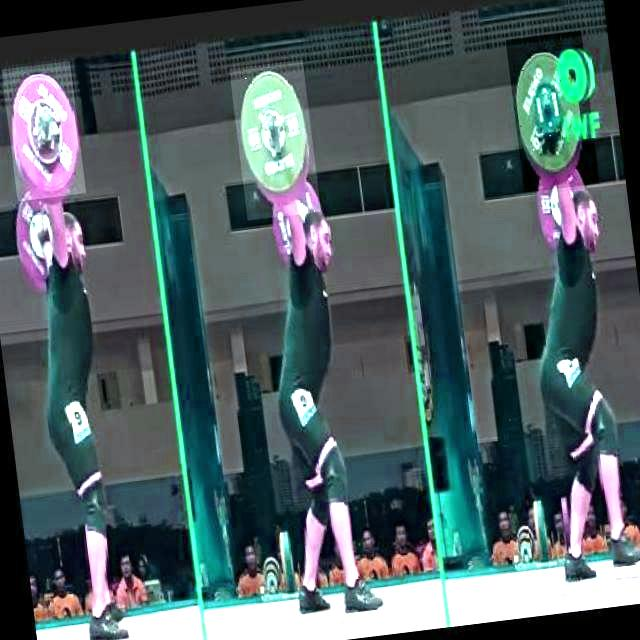barbell: (507, 30, 600, 192), (230, 60, 322, 221), (2, 61, 86, 202)
